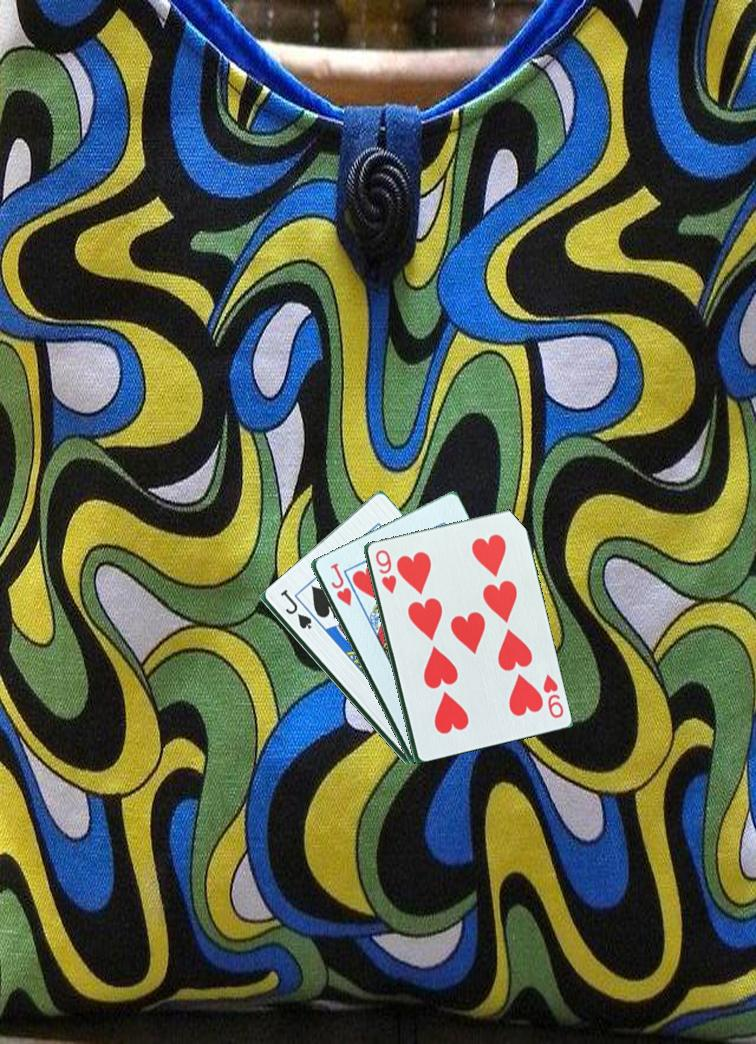9h: (539, 668, 566, 721), (371, 546, 398, 596)
jh: (326, 560, 354, 609)
js: (276, 587, 315, 632)
